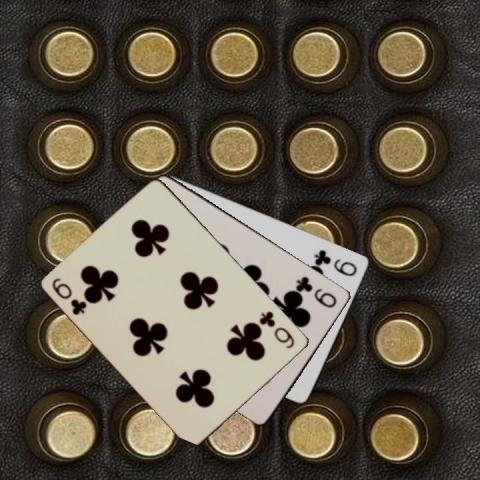6c: (256, 308, 297, 350), (49, 274, 89, 316)
9c: (293, 273, 339, 309), (312, 246, 360, 277)
